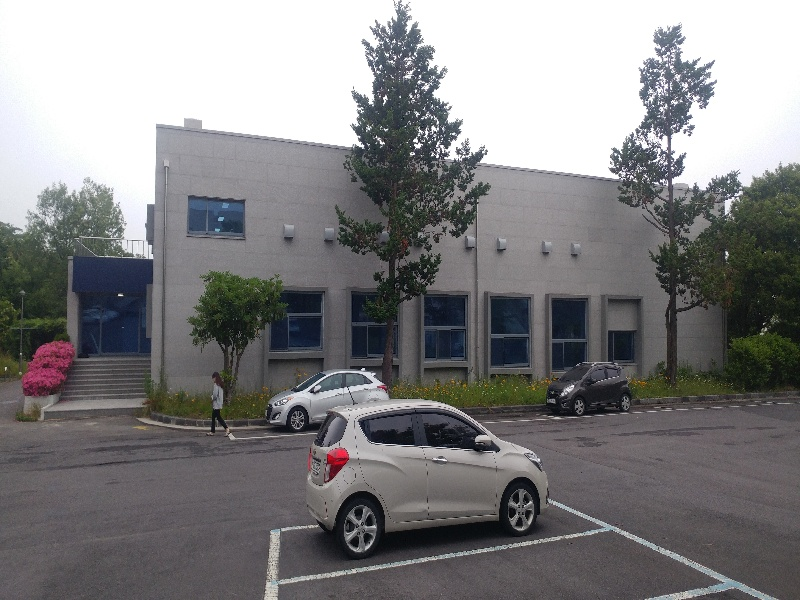College of Social Science: (61, 120, 727, 378), (159, 131, 721, 372), (60, 239, 154, 414)
